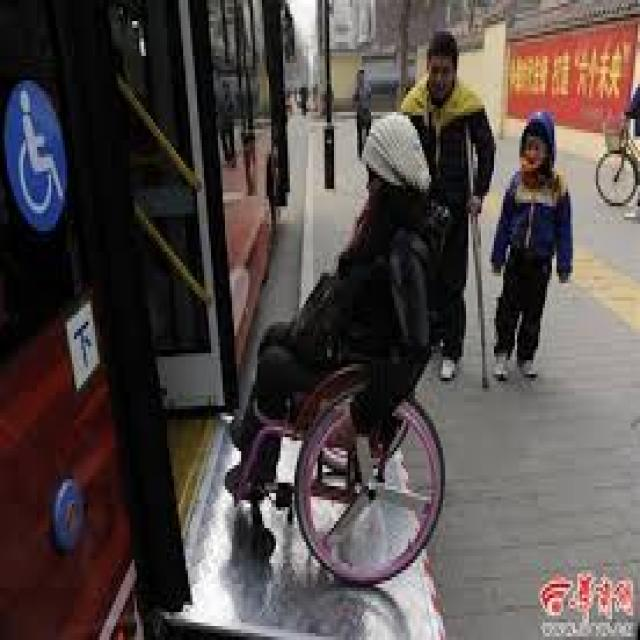wheelchairs: (232, 217, 485, 577)
